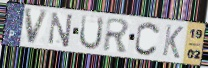C: (133, 21, 161, 58)
K: (161, 23, 185, 60)
N: (47, 11, 74, 50)
R: (102, 17, 131, 54)
U: (78, 14, 106, 51)
V: (23, 8, 51, 46)
